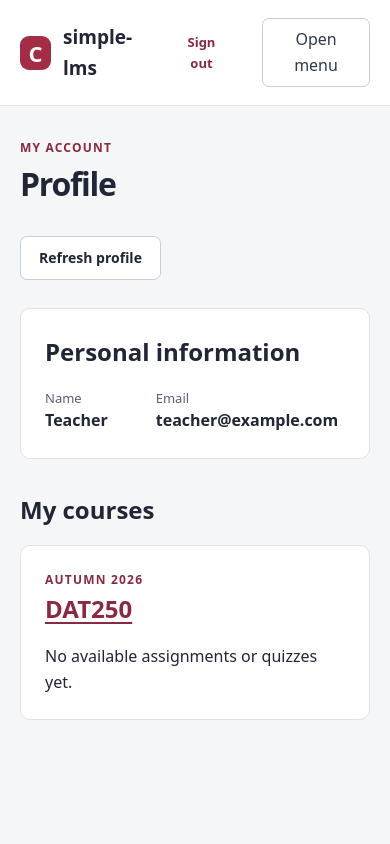
Test case: App › supports direct routes and closes the mobile menu after navigation
The width and height of the screenshot is (390, 844).
Expected: the heading "Profile" is shown, [20,165,116,204]
Step 1. Click the button "Open menu" → (316, 53), box [262,18,370,87]
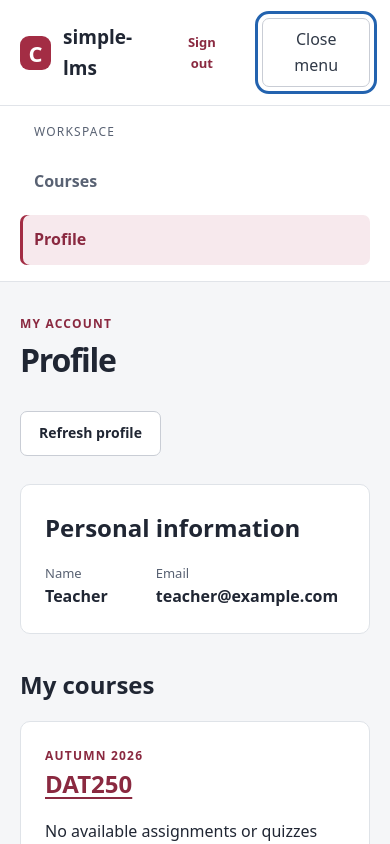
Now the button "Close menu" is expanded, box [262,18,370,87]
Step 2. Click the link "Courses" → (66, 181), box [34,170,97,192]
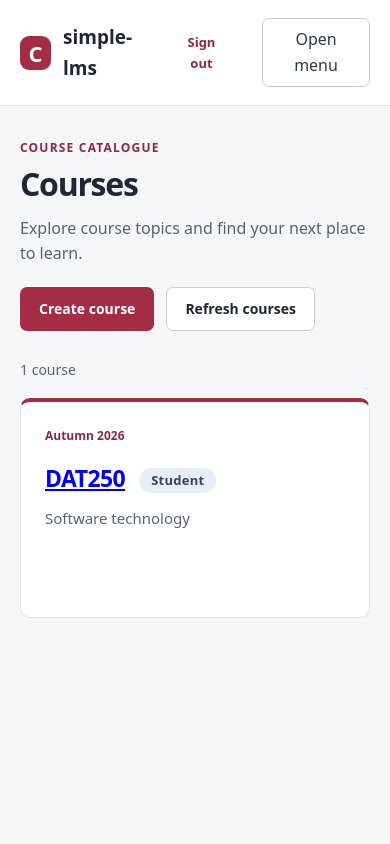
Now the button "Open menu" is collapsed, box [262,18,370,87]
